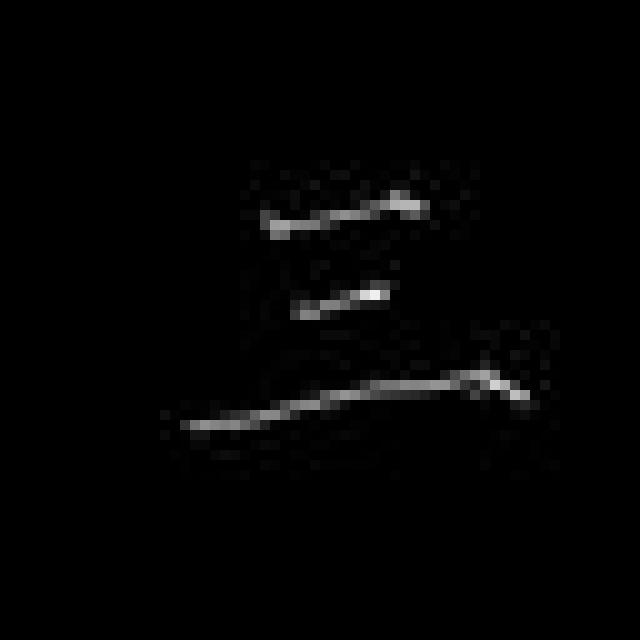3 -three-: (169, 174, 540, 450)
